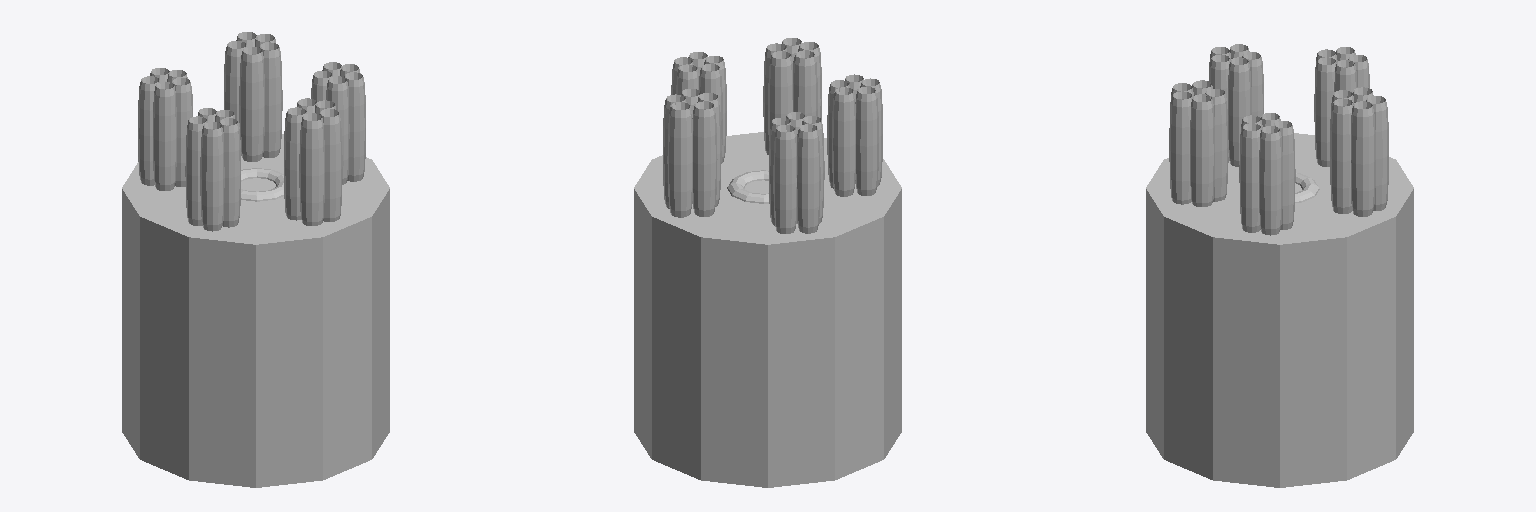
The model's file is EnginePart.obj.
The picture shows the model from 3 angles: view 1: azimuth 30°, elevation 25°; view 2: azimuth 150°, elevation 25°; view 3: azimuth 270°, elevation 25°; orthographic projection.
Parts seen in each view (by area): view 1: group[number redacted]; view 2: group[number redacted]; view 3: group[number redacted].
Boxes of the visible parts, x1,y1,x2,y2 form: group[number redacted]: [122, 32, 389, 487]; group[number redacted]: [634, 38, 901, 487]; group[number redacted]: [1146, 44, 1413, 487].
Size of the model in its own units: 0.43 by 0.62 by 0.43.